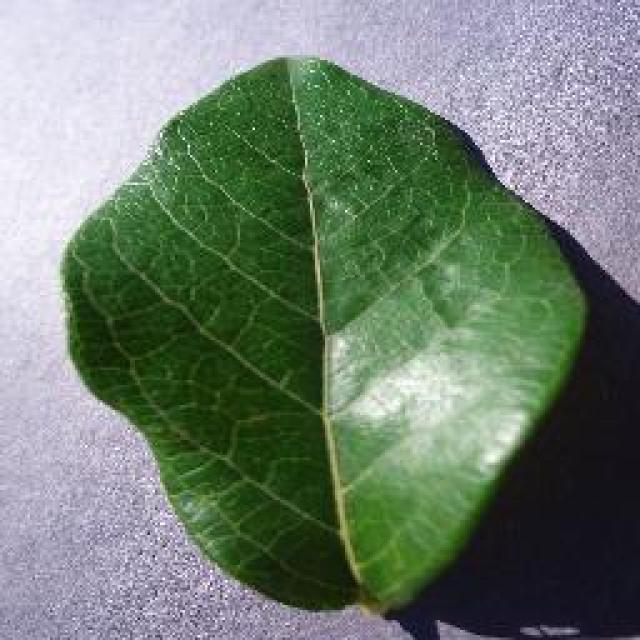Blu_healthy: (75, 92, 566, 562)
